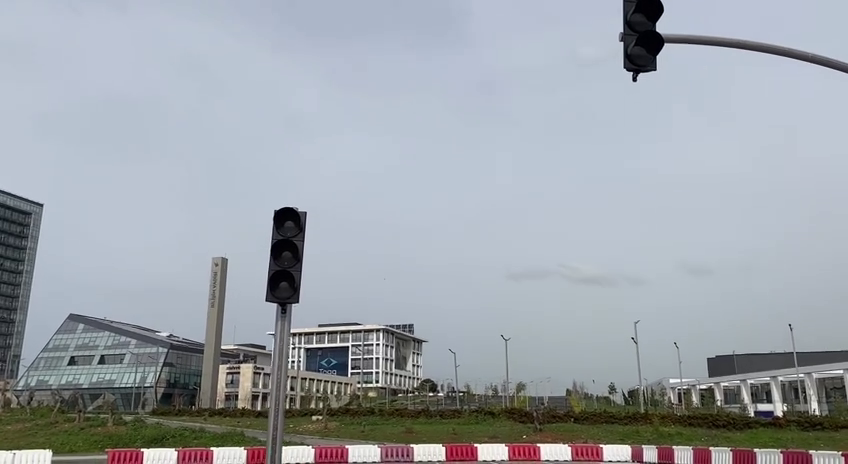trafficLight: (260, 203, 311, 308), (617, 1, 667, 82)
